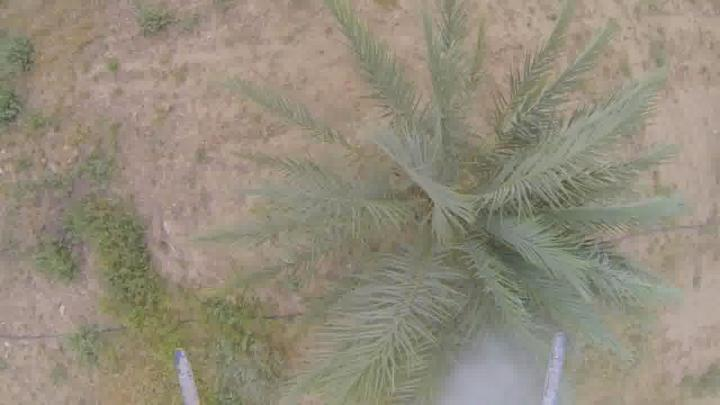Date-Palm-Crown: (376, 112, 598, 388)
